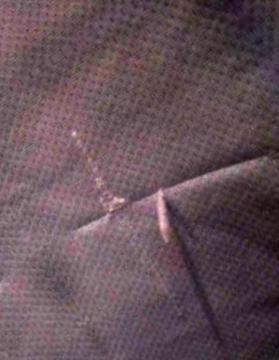snag: (143, 178, 183, 245)
